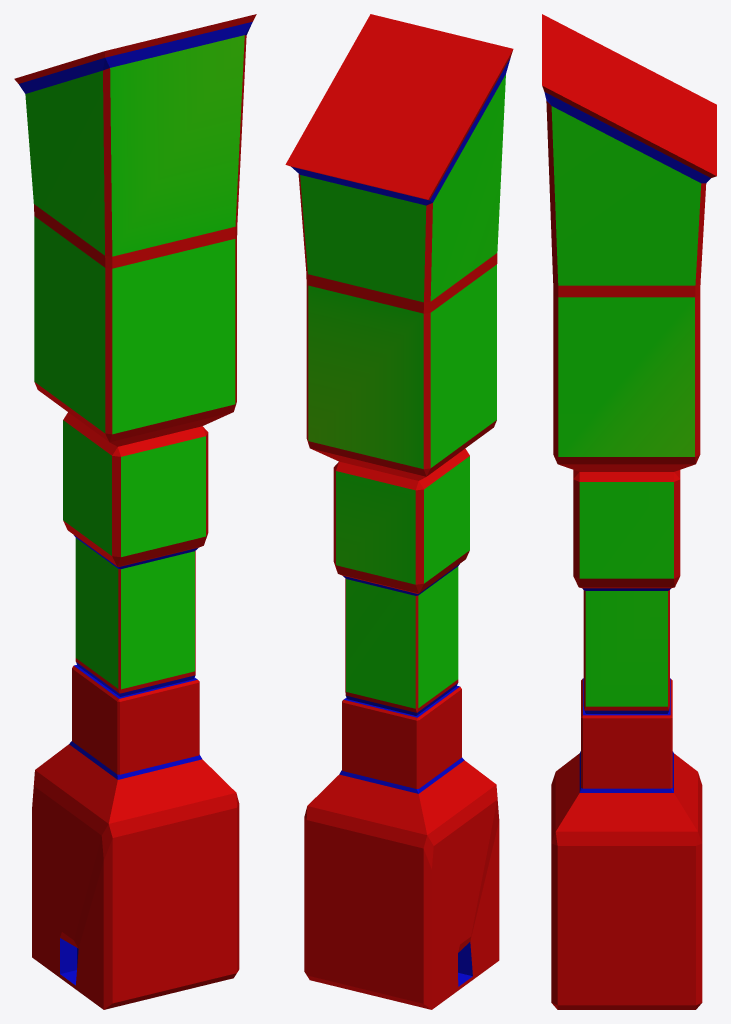
File: Skyscraper(80).fbx
3 views of the same model, side by side, from view 1: azimuth 30°, elevation 25°; view 2: azimuth 150°, elevation 25°; view 3: azimuth 270°, elevation 25° (orthographic). The views are drawn at different scales.
Parts seen in each view (by area): view 1: Cube.005; view 2: Cube.005; view 3: Cube.005.
Boxes of the visible parts, x1,y1,x2,y2 form: Cube.005: [14, 14, 256, 1009]; Cube.005: [285, 14, 513, 1009]; Cube.005: [542, 14, 716, 1009].
Bounding box in the file's own units: 13.37 × 81.13 × 13.79.
